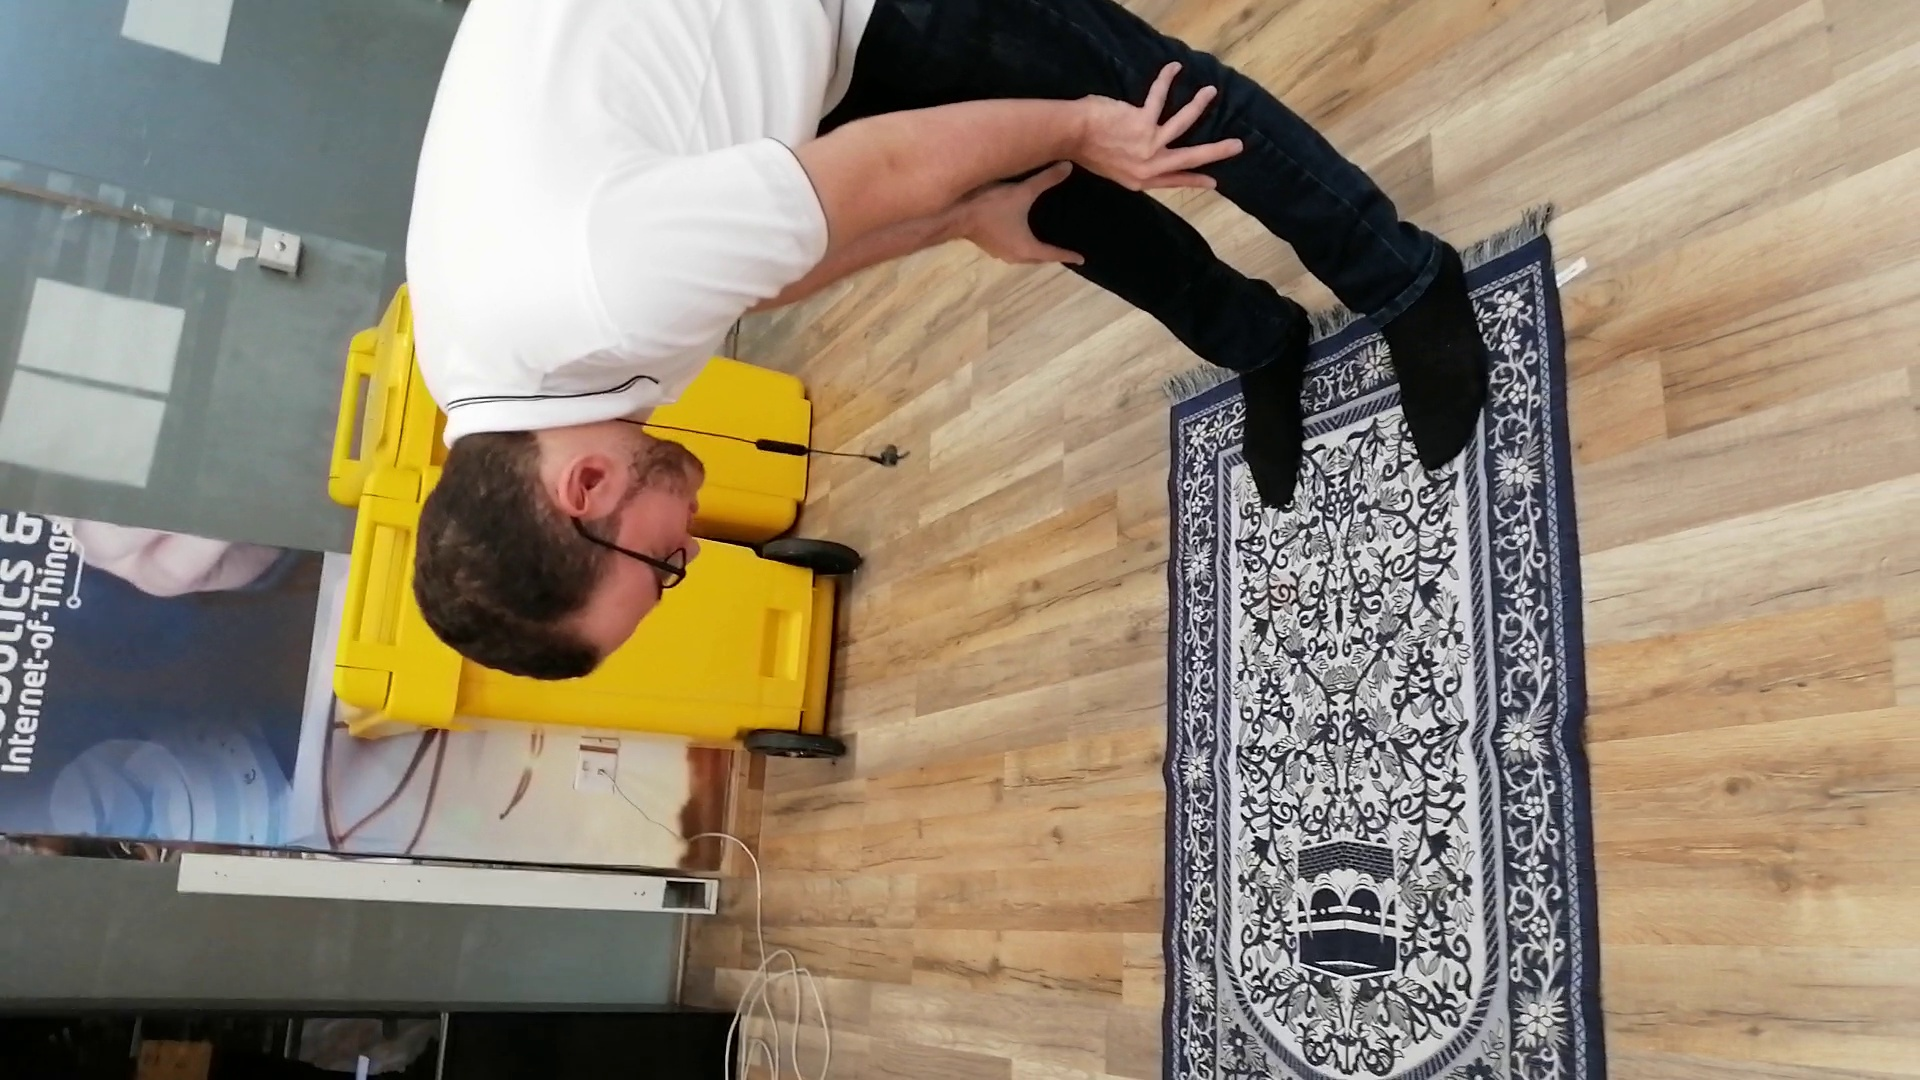ruku: (195, 3, 1764, 727)
